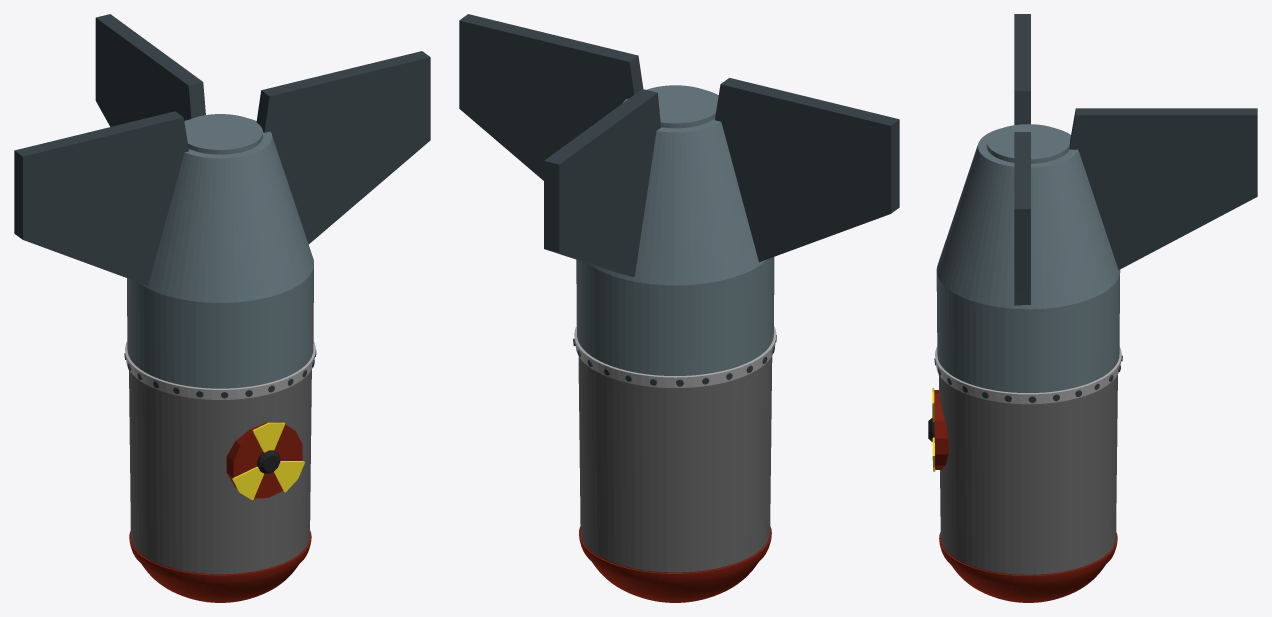
The model's file is Bomb.glb.
3 renders of one model, left to right at view 1: azimuth 30°, elevation 25°; view 2: azimuth 150°, elevation 25°; view 3: azimuth 270°, elevation 25°, orthographic. The views are drawn at different scales.
Visible parts, largest first — view 1: Cylinder; view 2: Cylinder; view 3: Cylinder.
Boxes of the visible parts, x1,y1,x2,y2 form: Cylinder: (14,14,430,602); Cylinder: (459,14,899,602); Cylinder: (928,14,1257,602).
Bounding box in the file's own units: 4.27 × 4.97 × 3.05.
1 material, 1 textured.
